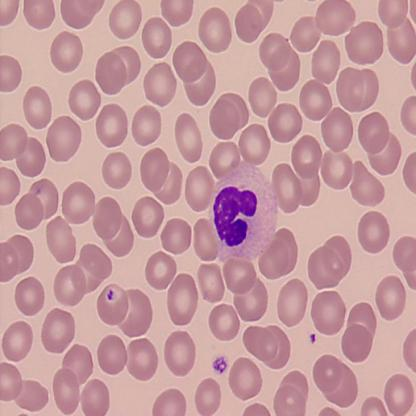Band Neutrophil: (204, 159, 279, 268)
